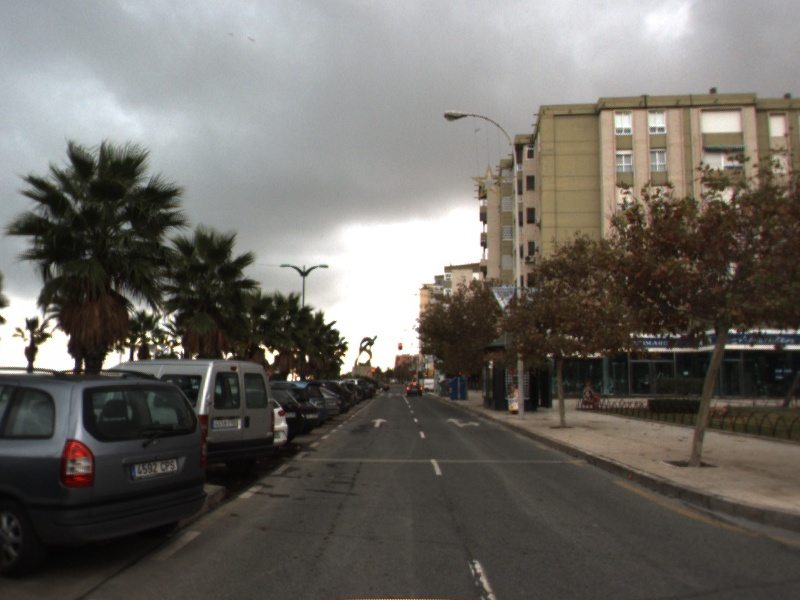STRAIGHT: (369, 416, 389, 429)
STRAIGHT_RIGHT: (445, 416, 482, 429)
